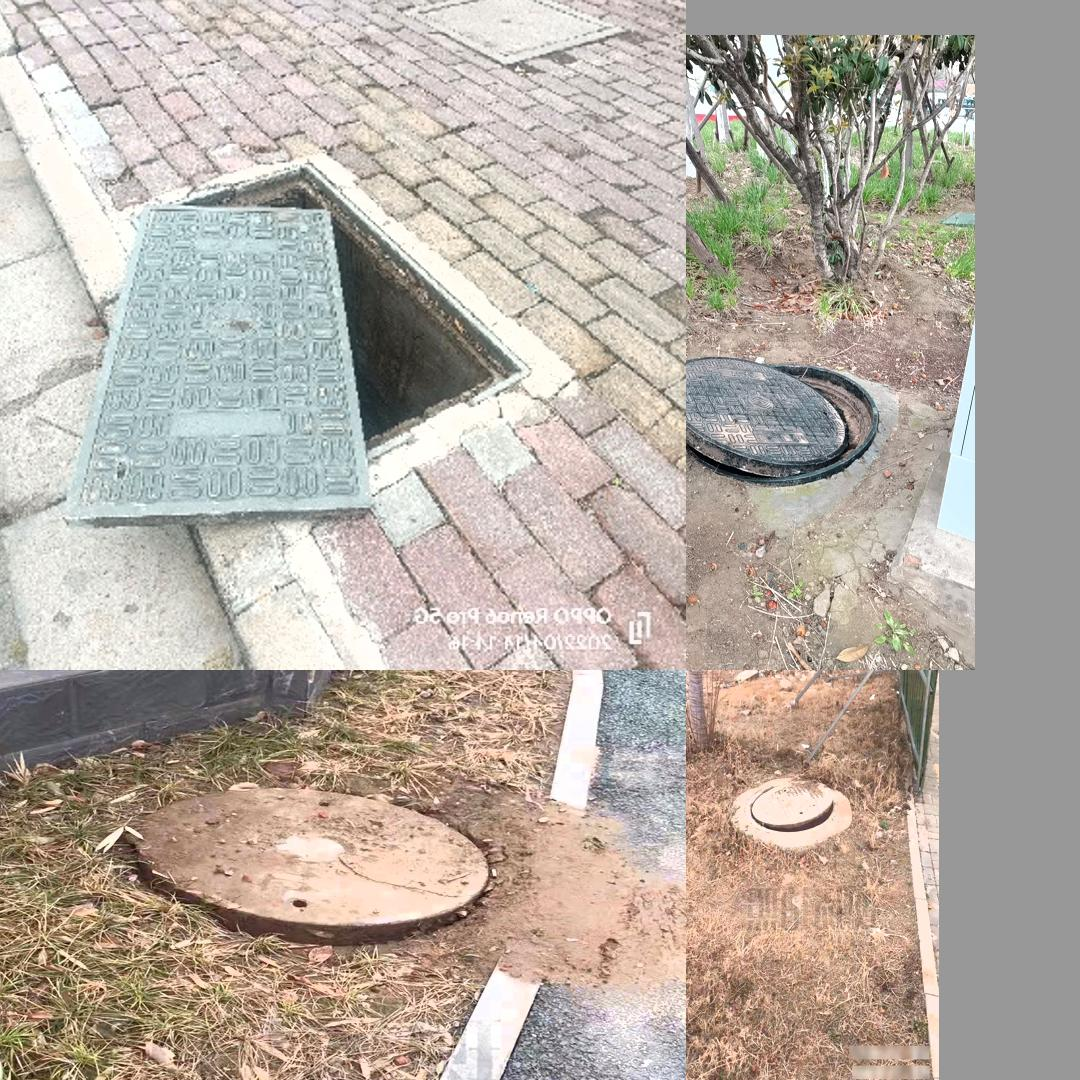good: (402, 0, 631, 67)
uncovered: (65, 144, 571, 530), (133, 787, 491, 949), (686, 355, 879, 486), (744, 780, 837, 835)
